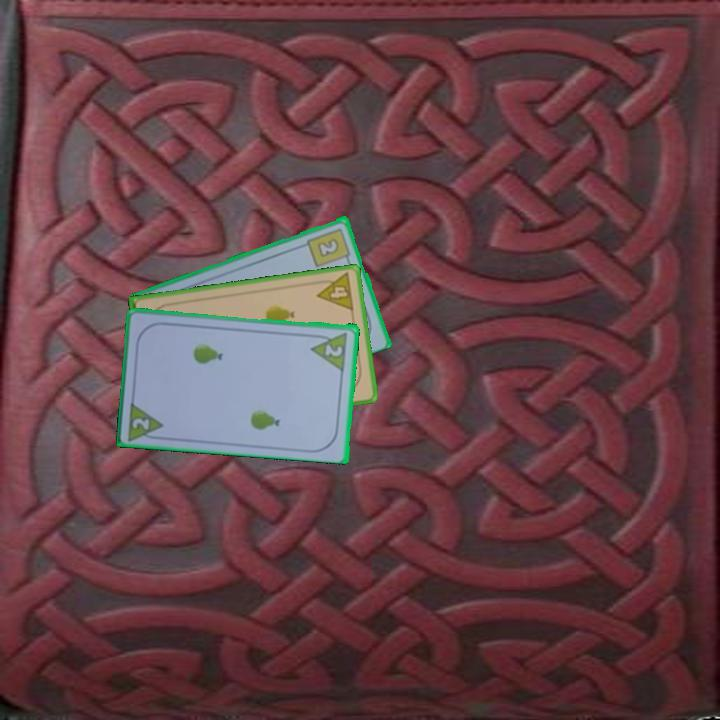2b: (304, 224, 354, 270)
2p: (128, 414, 153, 433), (322, 341, 346, 359)
4p: (312, 269, 356, 314)
